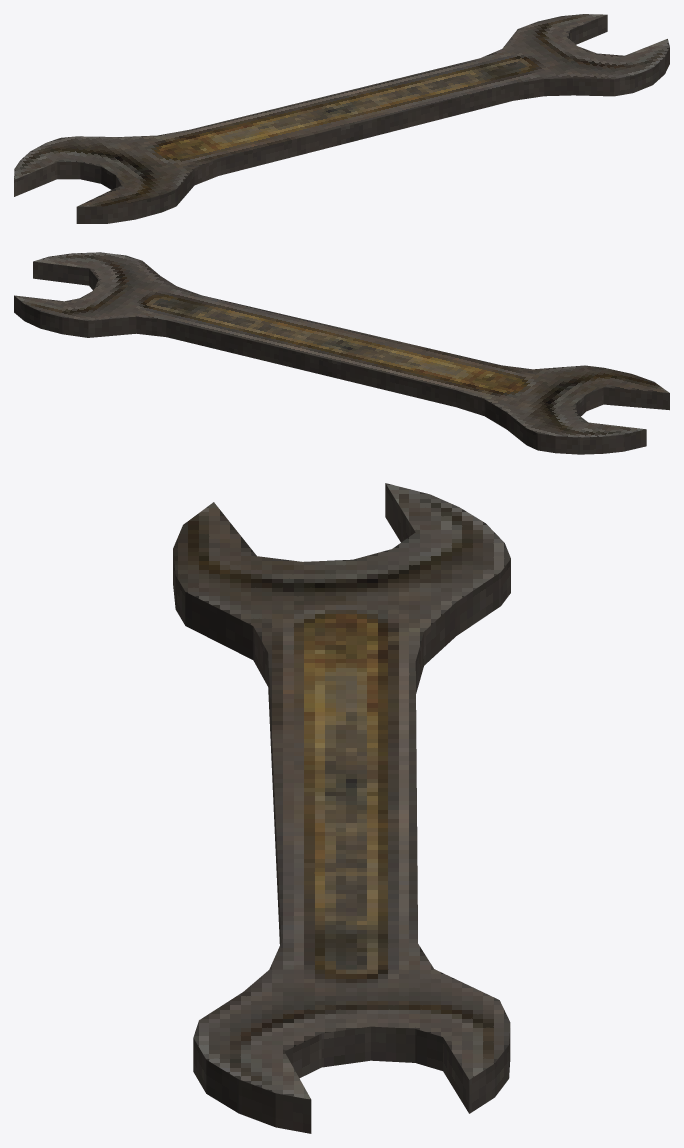
File: wrench_mx_1.glb
3 views of the same model, one above another, from view 1: azimuth 30°, elevation 25°; view 2: azimuth 150°, elevation 25°; view 3: azimuth 270°, elevation 25° (orthographic). The views are drawn at different scales.
Visible parts, largest first — view 1: wrench_mx_1; view 2: wrench_mx_1; view 3: wrench_mx_1.
Boxes of the visible parts, box(x1,y1,x2,y2) form: wrench_mx_1: box(14, 14, 669, 223); wrench_mx_1: box(14, 252, 669, 454); wrench_mx_1: box(173, 483, 510, 1133).
Size of the model in its own units: 0.3877 by 0.01 by 0.0898.
1 material, 1 textured.
